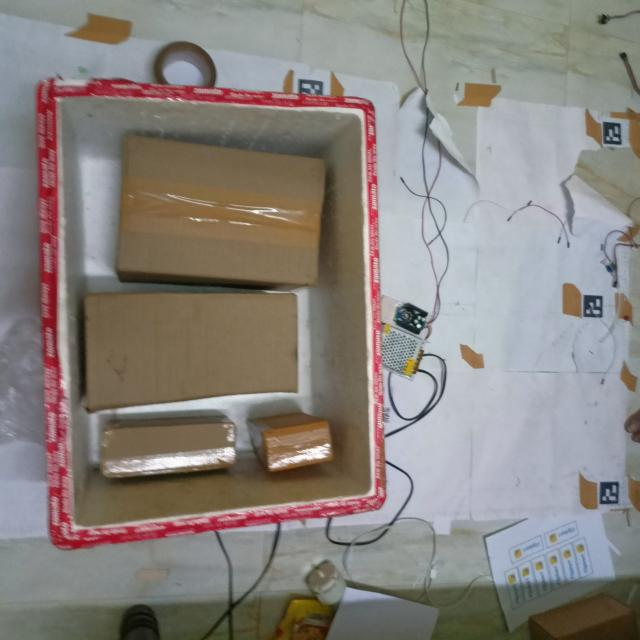box: (112, 122, 338, 297), (80, 276, 298, 413)
